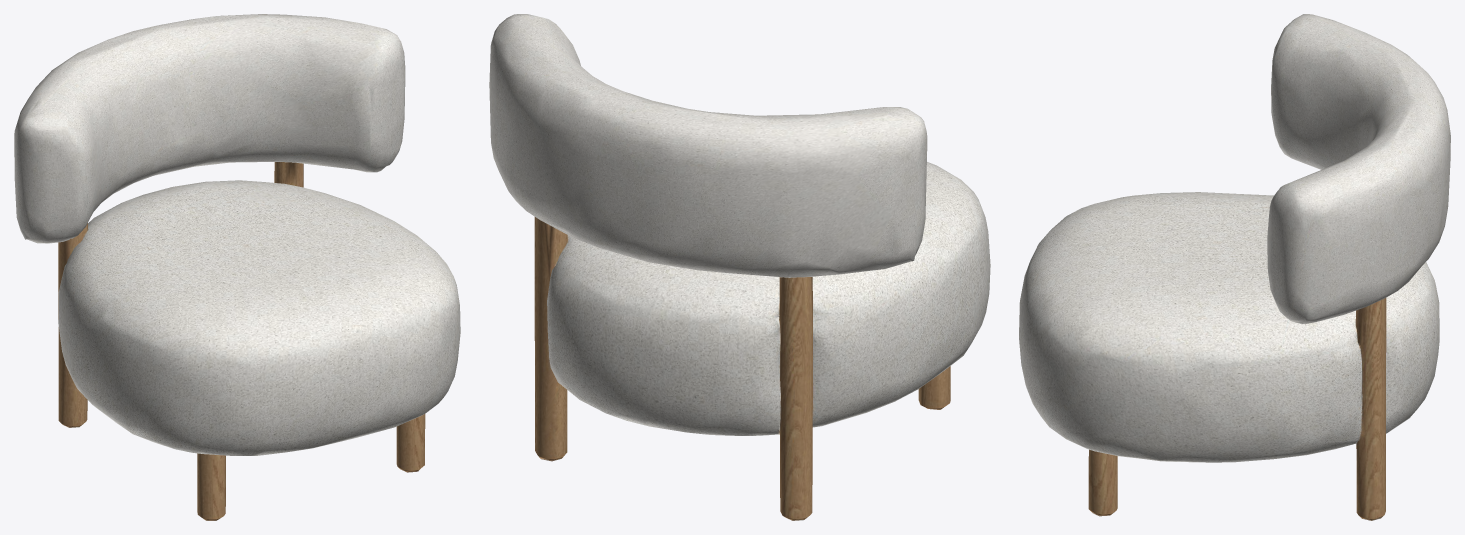
3 renders of one model, left to right at view 1: azimuth 30°, elevation 25°; view 2: azimuth 150°, elevation 25°; view 3: azimuth 270°, elevation 25°, orthographic. The views are drawn at different scales.
Visible parts, largest first — view 1: ASY_ART_20594750_S01_NV01; view 2: ASY_ART_20594750_S01_NV01; view 3: ASY_ART_20594750_S01_NV01.
Part boxes in pixels (x1=…): ASY_ART_20594750_S01_NV01: x1=14, y1=14, x2=460, y2=520; ASY_ART_20594750_S01_NV01: x1=489, y1=14, x2=990, y2=520; ASY_ART_20594750_S01_NV01: x1=1019, y1=14, x2=1450, y2=520.
Bounding box in the file's own units: 0.7763 × 0.6863 × 0.7402.
1 material, 1 textured.
